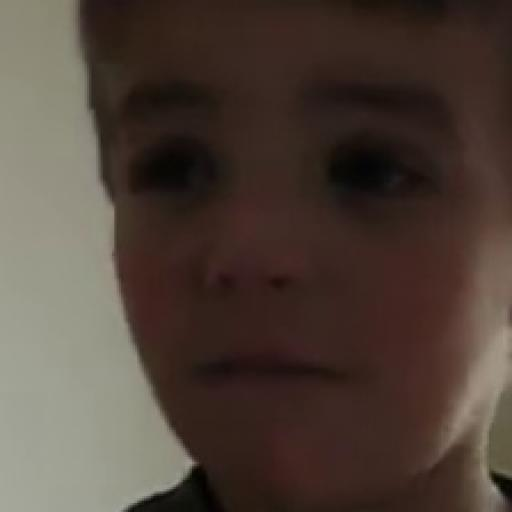Autism: (77, 5, 512, 502)
